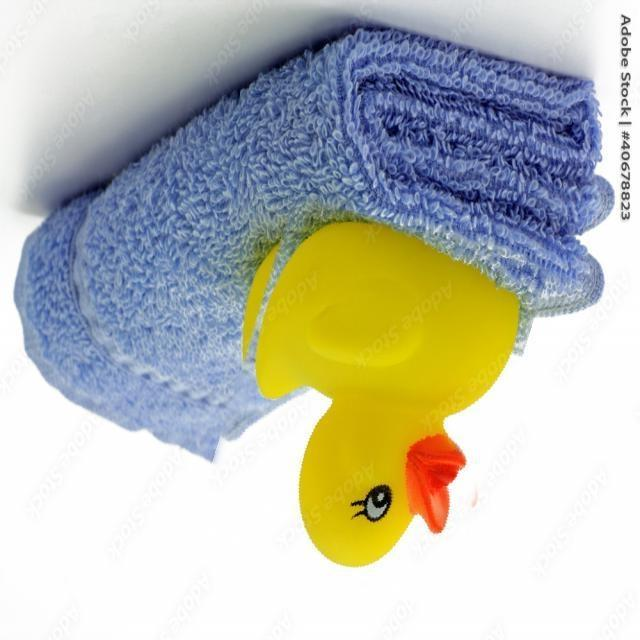rubber-duck: (242, 221, 517, 564)
